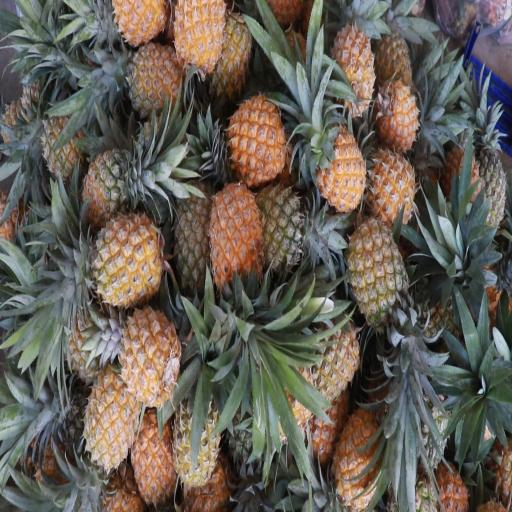------------------------------: (347, 215, 412, 344), (170, 377, 223, 502), (77, 141, 152, 225), (253, 168, 313, 264), (118, 28, 185, 112)
Pineapple - v8 v1: (78, 205, 172, 308), (206, 178, 270, 308), (114, 298, 184, 410), (81, 355, 140, 476), (331, 395, 391, 512), (298, 304, 365, 401), (226, 84, 285, 190), (305, 111, 369, 208), (323, 18, 380, 118), (125, 410, 180, 512), (359, 133, 416, 229), (169, 0, 224, 86), (369, 70, 422, 154)
